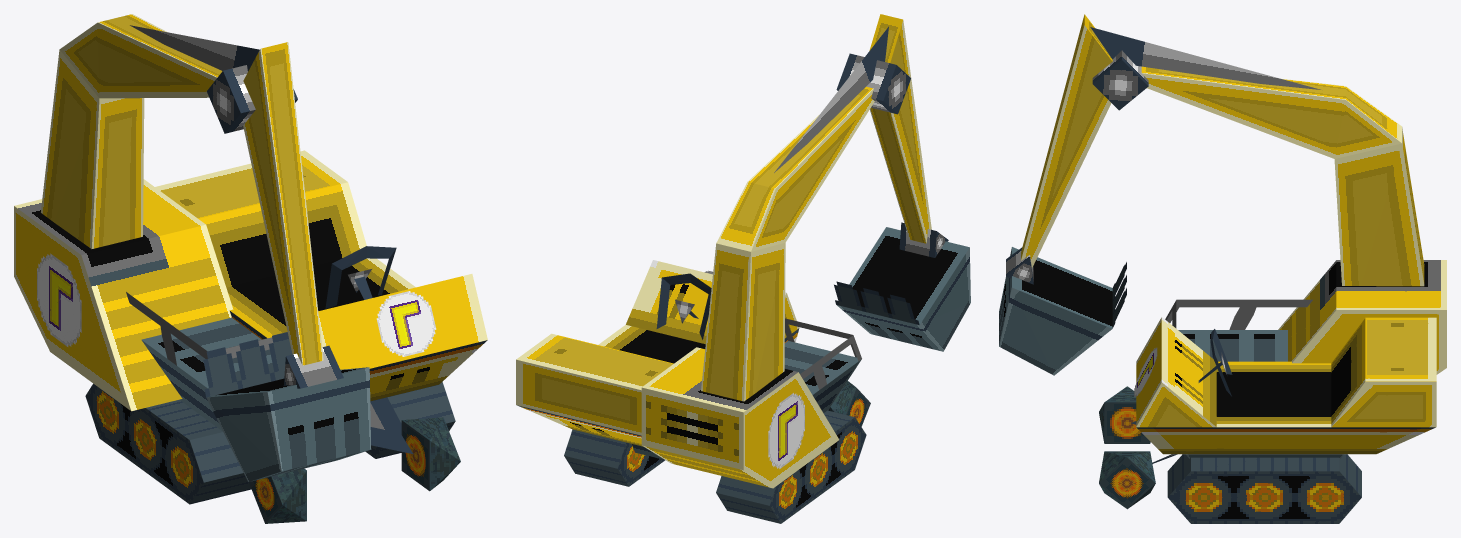
File: kart_WL_b.glb
3 views of the same model, side by side, from view 1: azimuth 30°, elevation 25°; view 2: azimuth 150°, elevation 25°; view 3: azimuth 270°, elevation 25° (orthographic). The views are drawn at different scales.
Visible parts, largest first — view 1: kart_WL_b; view 2: kart_WL_b; view 3: kart_WL_b.
Boxes of the visible parts, bbox=[...] form: kart_WL_b: bbox=[14, 14, 487, 523]; kart_WL_b: bbox=[516, 14, 970, 523]; kart_WL_b: bbox=[999, 14, 1446, 523].
Size of the model in its own units: 0.9692 by 1.57 by 1.55.
Materials: 3 (3 with a texture image).
